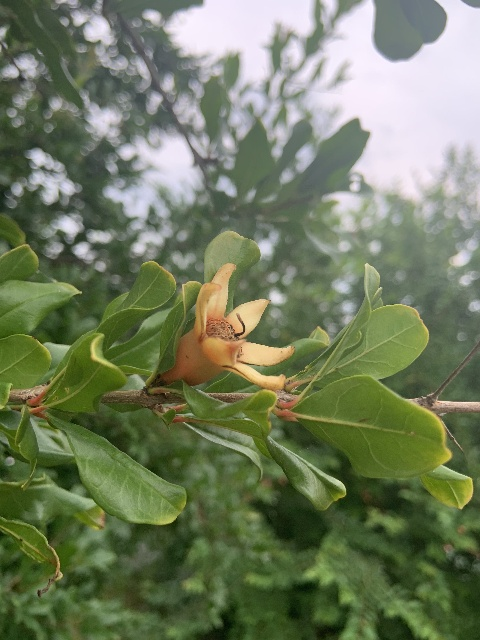early-fruit: (156, 262, 294, 391)
